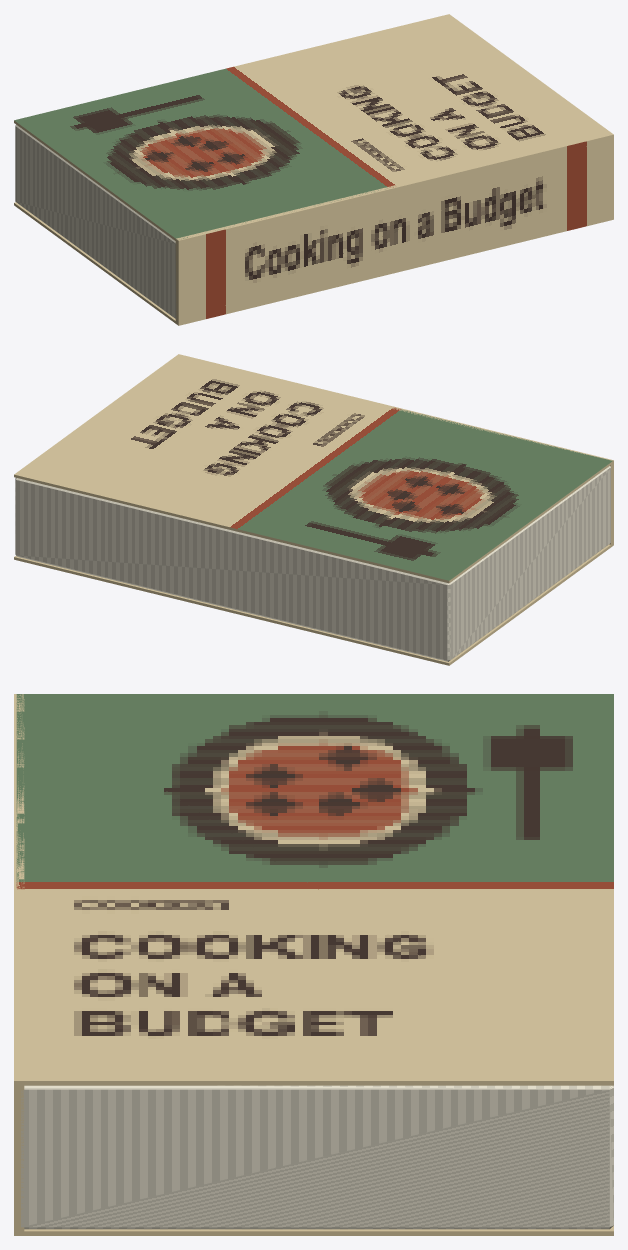
The model's file is cookbook.glb.
The picture shows the model from 3 angles, top to bottom: view 1: azimuth 30°, elevation 25°; view 2: azimuth 150°, elevation 25°; view 3: azimuth 270°, elevation 25°; orthographic projection. The views are drawn at different scales.
Parts seen in each view (by area): view 1: block_front, block_spine, block_pages, block_back; view 2: block_front, block_pages, block_back, block_spine; view 3: block_front, block_pages, block_spine, block_back.
Boxes of the visible parts, bbox=[...] form: block_front: bbox=[14, 14, 610, 242]; block_spine: bbox=[175, 132, 613, 325]; block_pages: bbox=[15, 124, 176, 318]; block_back: bbox=[14, 202, 177, 324]; block_front: bbox=[14, 355, 613, 583]; block_pages: bbox=[15, 466, 610, 661]; block_back: bbox=[14, 543, 613, 665]; block_spine: bbox=[176, 354, 613, 545]; block_front: bbox=[16, 694, 613, 1085]; block_pages: bbox=[21, 1085, 613, 1229]; block_spine: bbox=[14, 694, 24, 1235]; block_back: bbox=[16, 1226, 613, 1235].
Size of the model in its own units: 0.247 by 0.0461 by 0.1618.
Materials: 1 (1 with a texture image).
